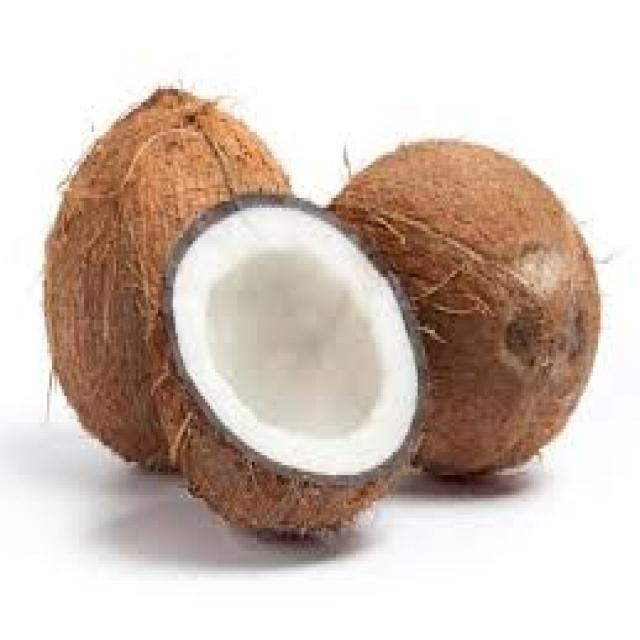coconut: (161, 223, 419, 538), (410, 136, 605, 491), (31, 81, 167, 481)
